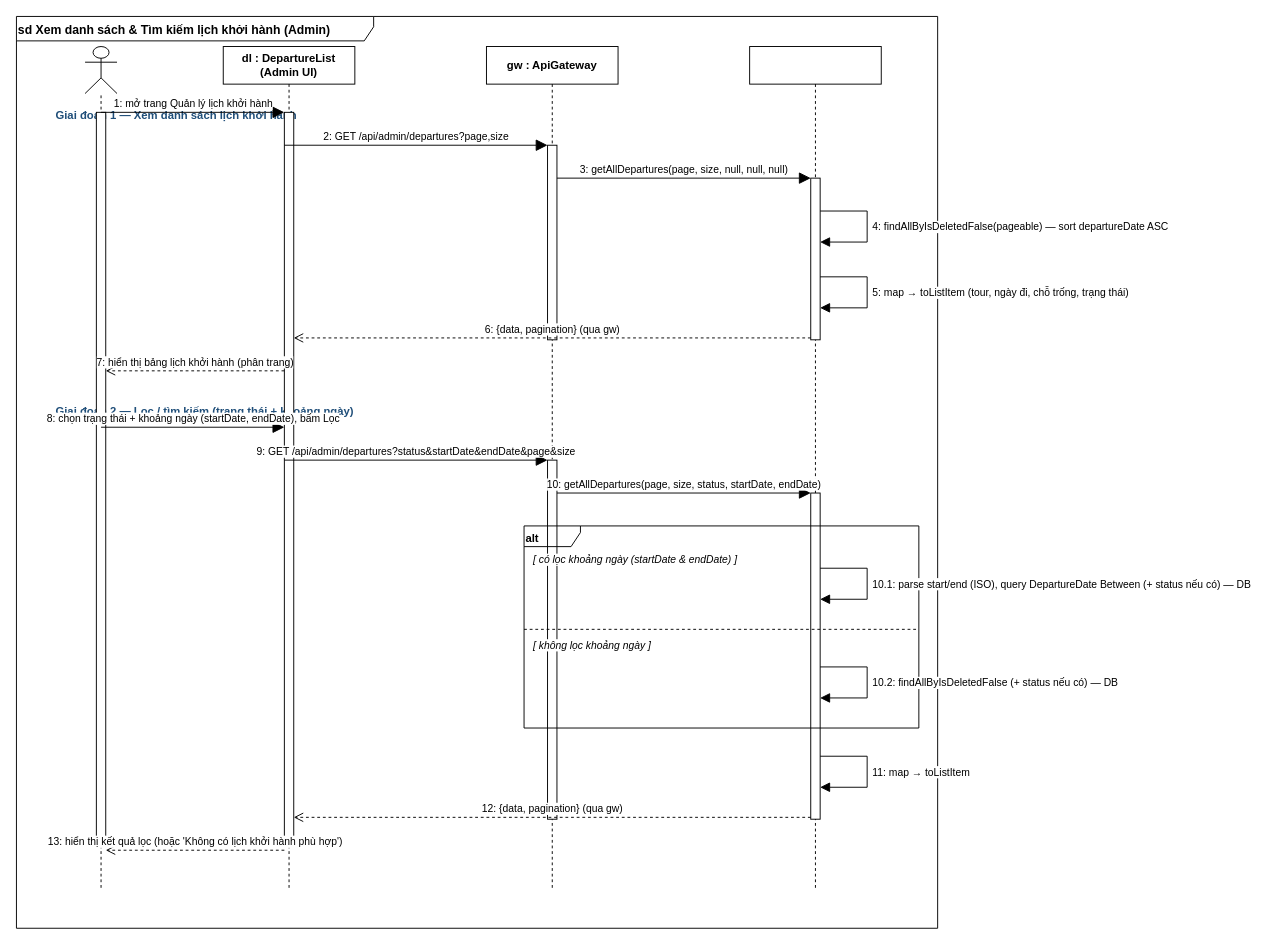
Image size: 1268x945. Some labels were removed from this diagram. Each missing label, with the centre of its shape:
Admin: [100,70]
tc : TourCatalogService: [815,467]
